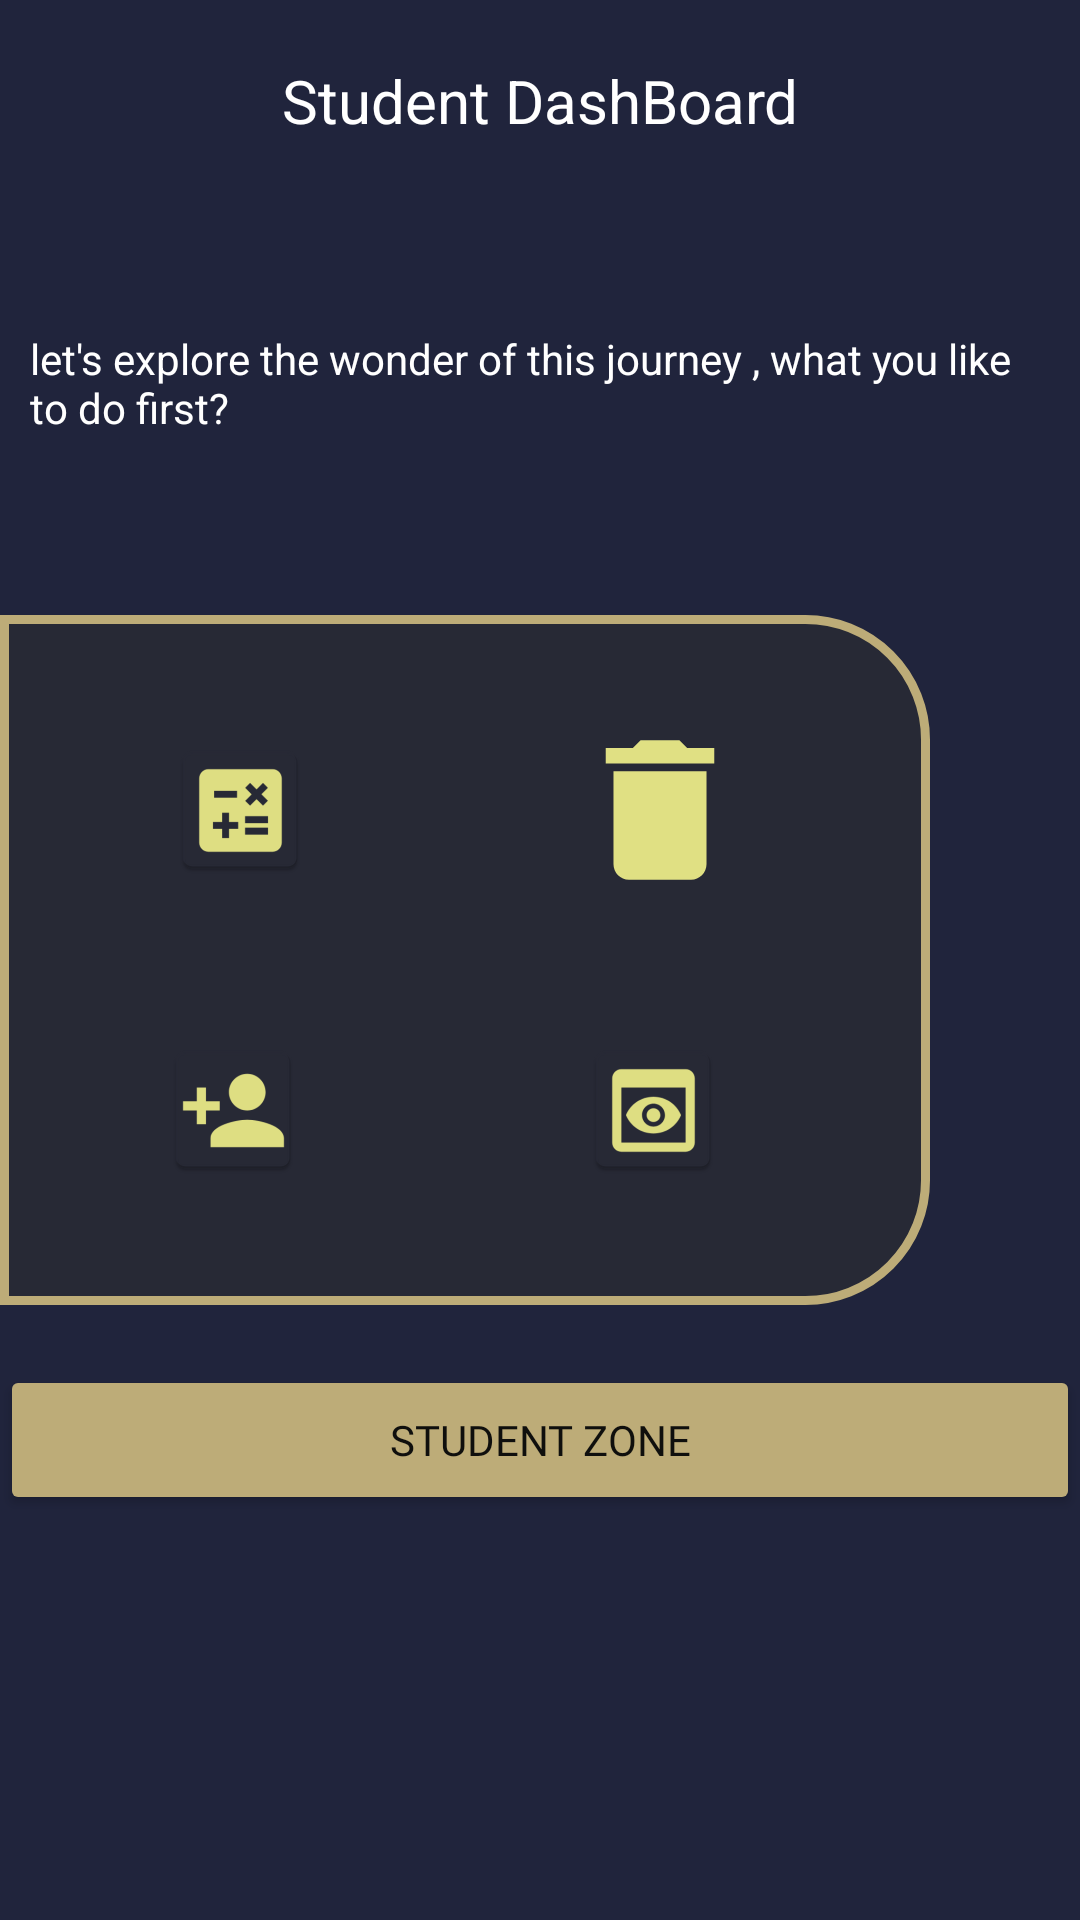

Where to tap for icons on this 1080 × 1920 app screen, as (x,y):
admin delete: (660,810)
std area addstddetailimage: (233,1110)
std area gradecalimage: (240,810)
std area viewstddetail: (653,1110)
